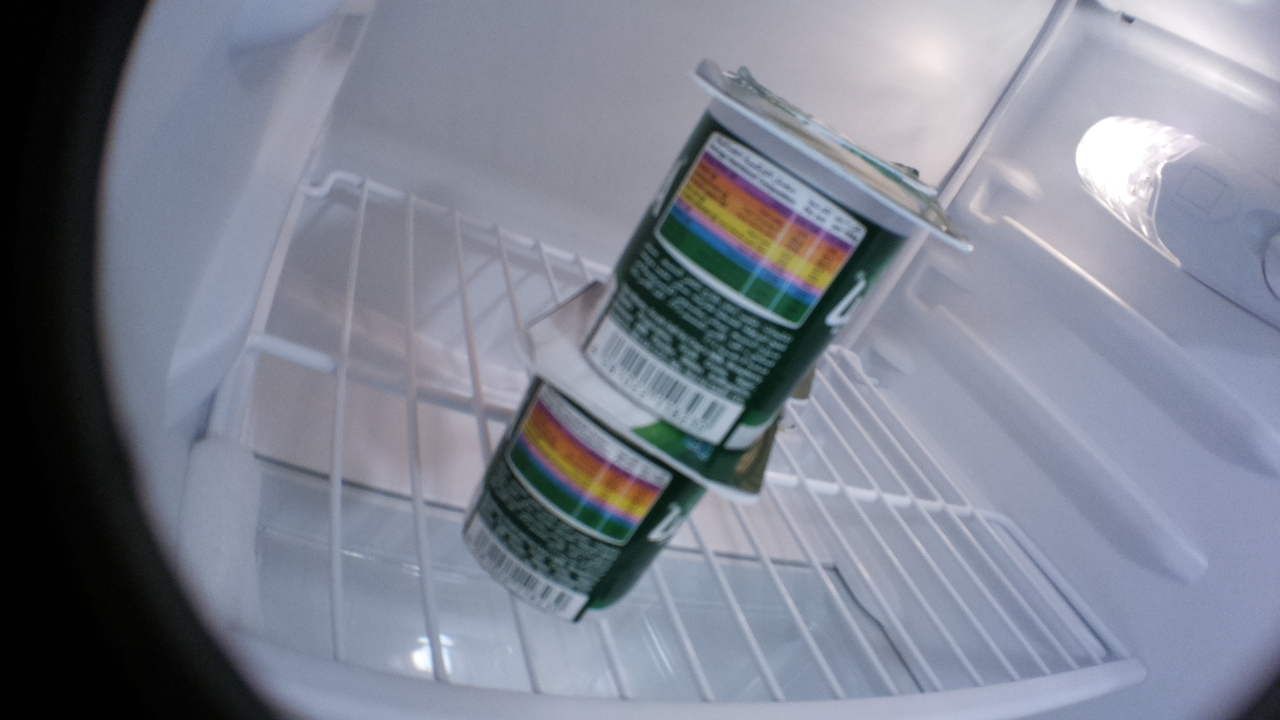yoghurt: (591, 68, 981, 452), (456, 279, 786, 630)
